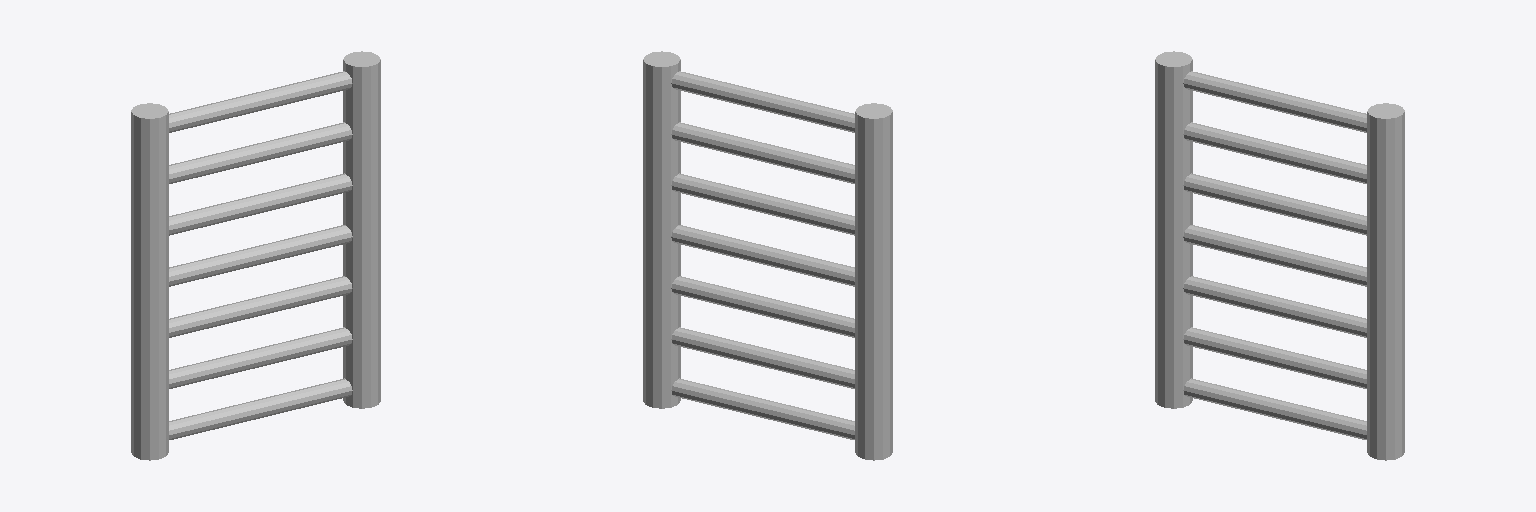
Rendered from ladder.obj.
3 views of the same model, side by side, from view 1: azimuth 30°, elevation 25°; view 2: azimuth 150°, elevation 25°; view 3: azimuth 330°, elevation 25° (orthographic).
Visible parts, largest first — view 1: Regroup03; view 2: Regroup03; view 3: Regroup03.
Boxes of the visible parts, <box> form: Regroup03: <box>131,51,380,460</box>; Regroup03: <box>643,51,892,460</box>; Regroup03: <box>1155,51,1404,460</box>.
Size of the model in its own units: 15 by 20 by 2.